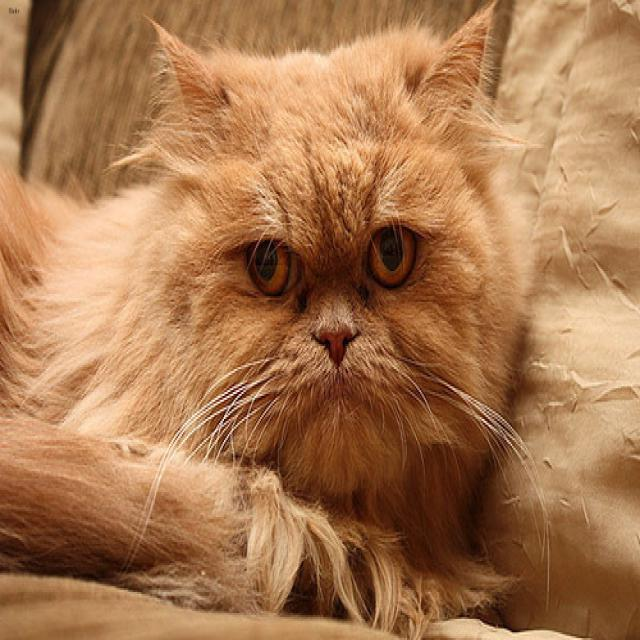Persian: (141, 0, 529, 509)
